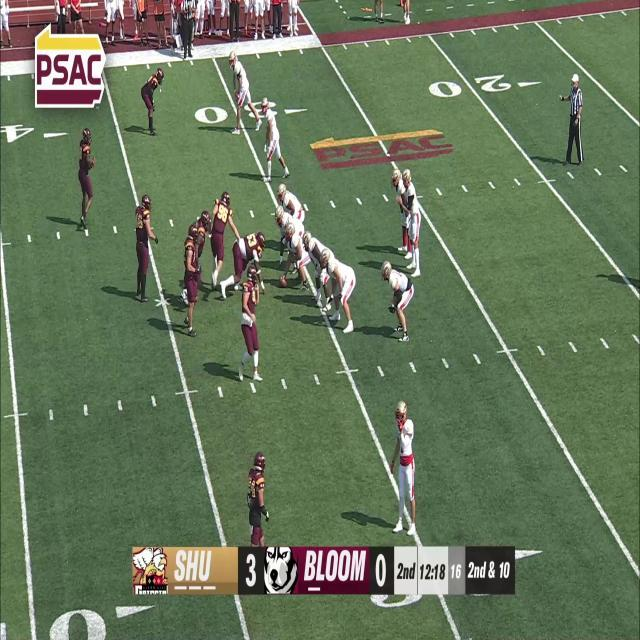football: (278, 275, 288, 289)
